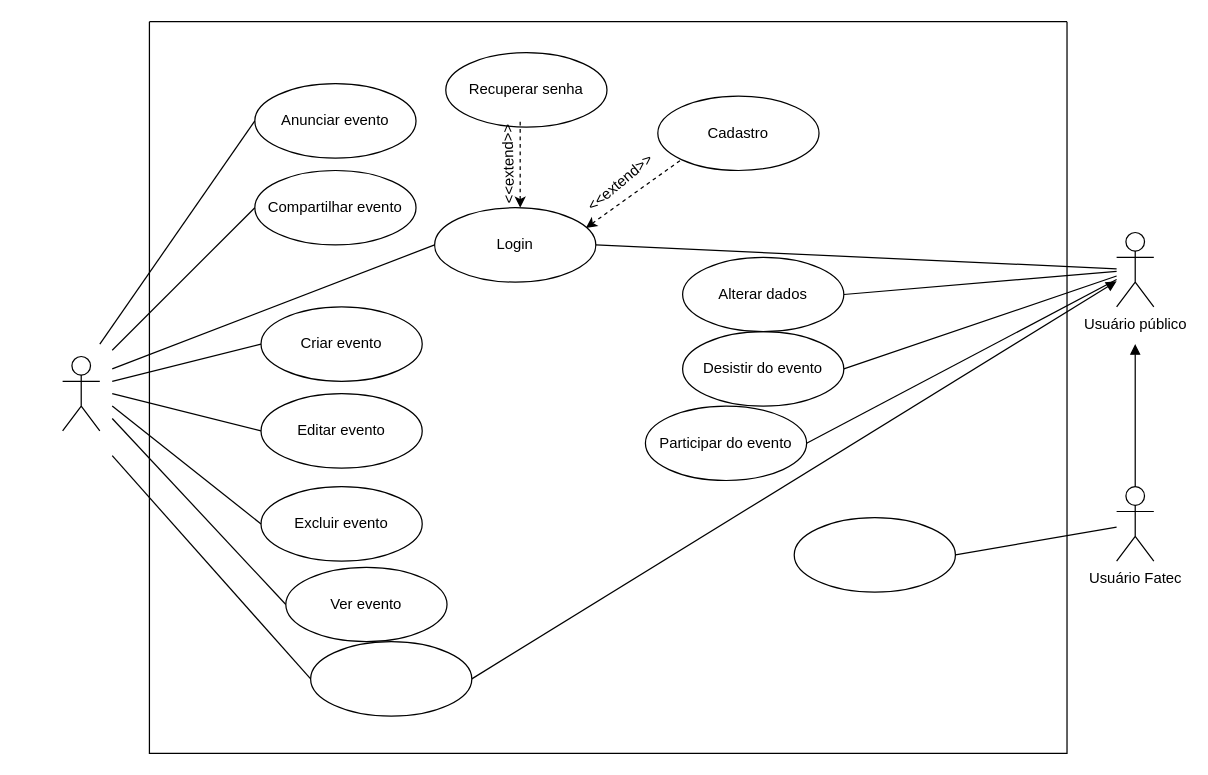
The diagram is 1208 pixels wide and 775 high, and some of its shapes have lost their labels. The centre of each missing label's shape, as x and y in pixels:
Funcionário Fatec: the point at 80,393
Liberar Certificado: the point at 390,678
Participar do evento exclusivo: the point at 874,554
